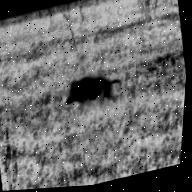boar: (57, 70, 130, 118)
